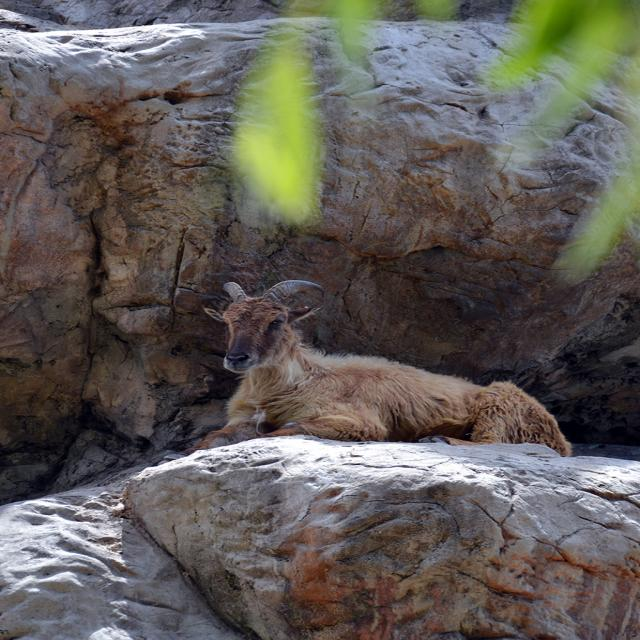Goat: (204, 269, 558, 459)
